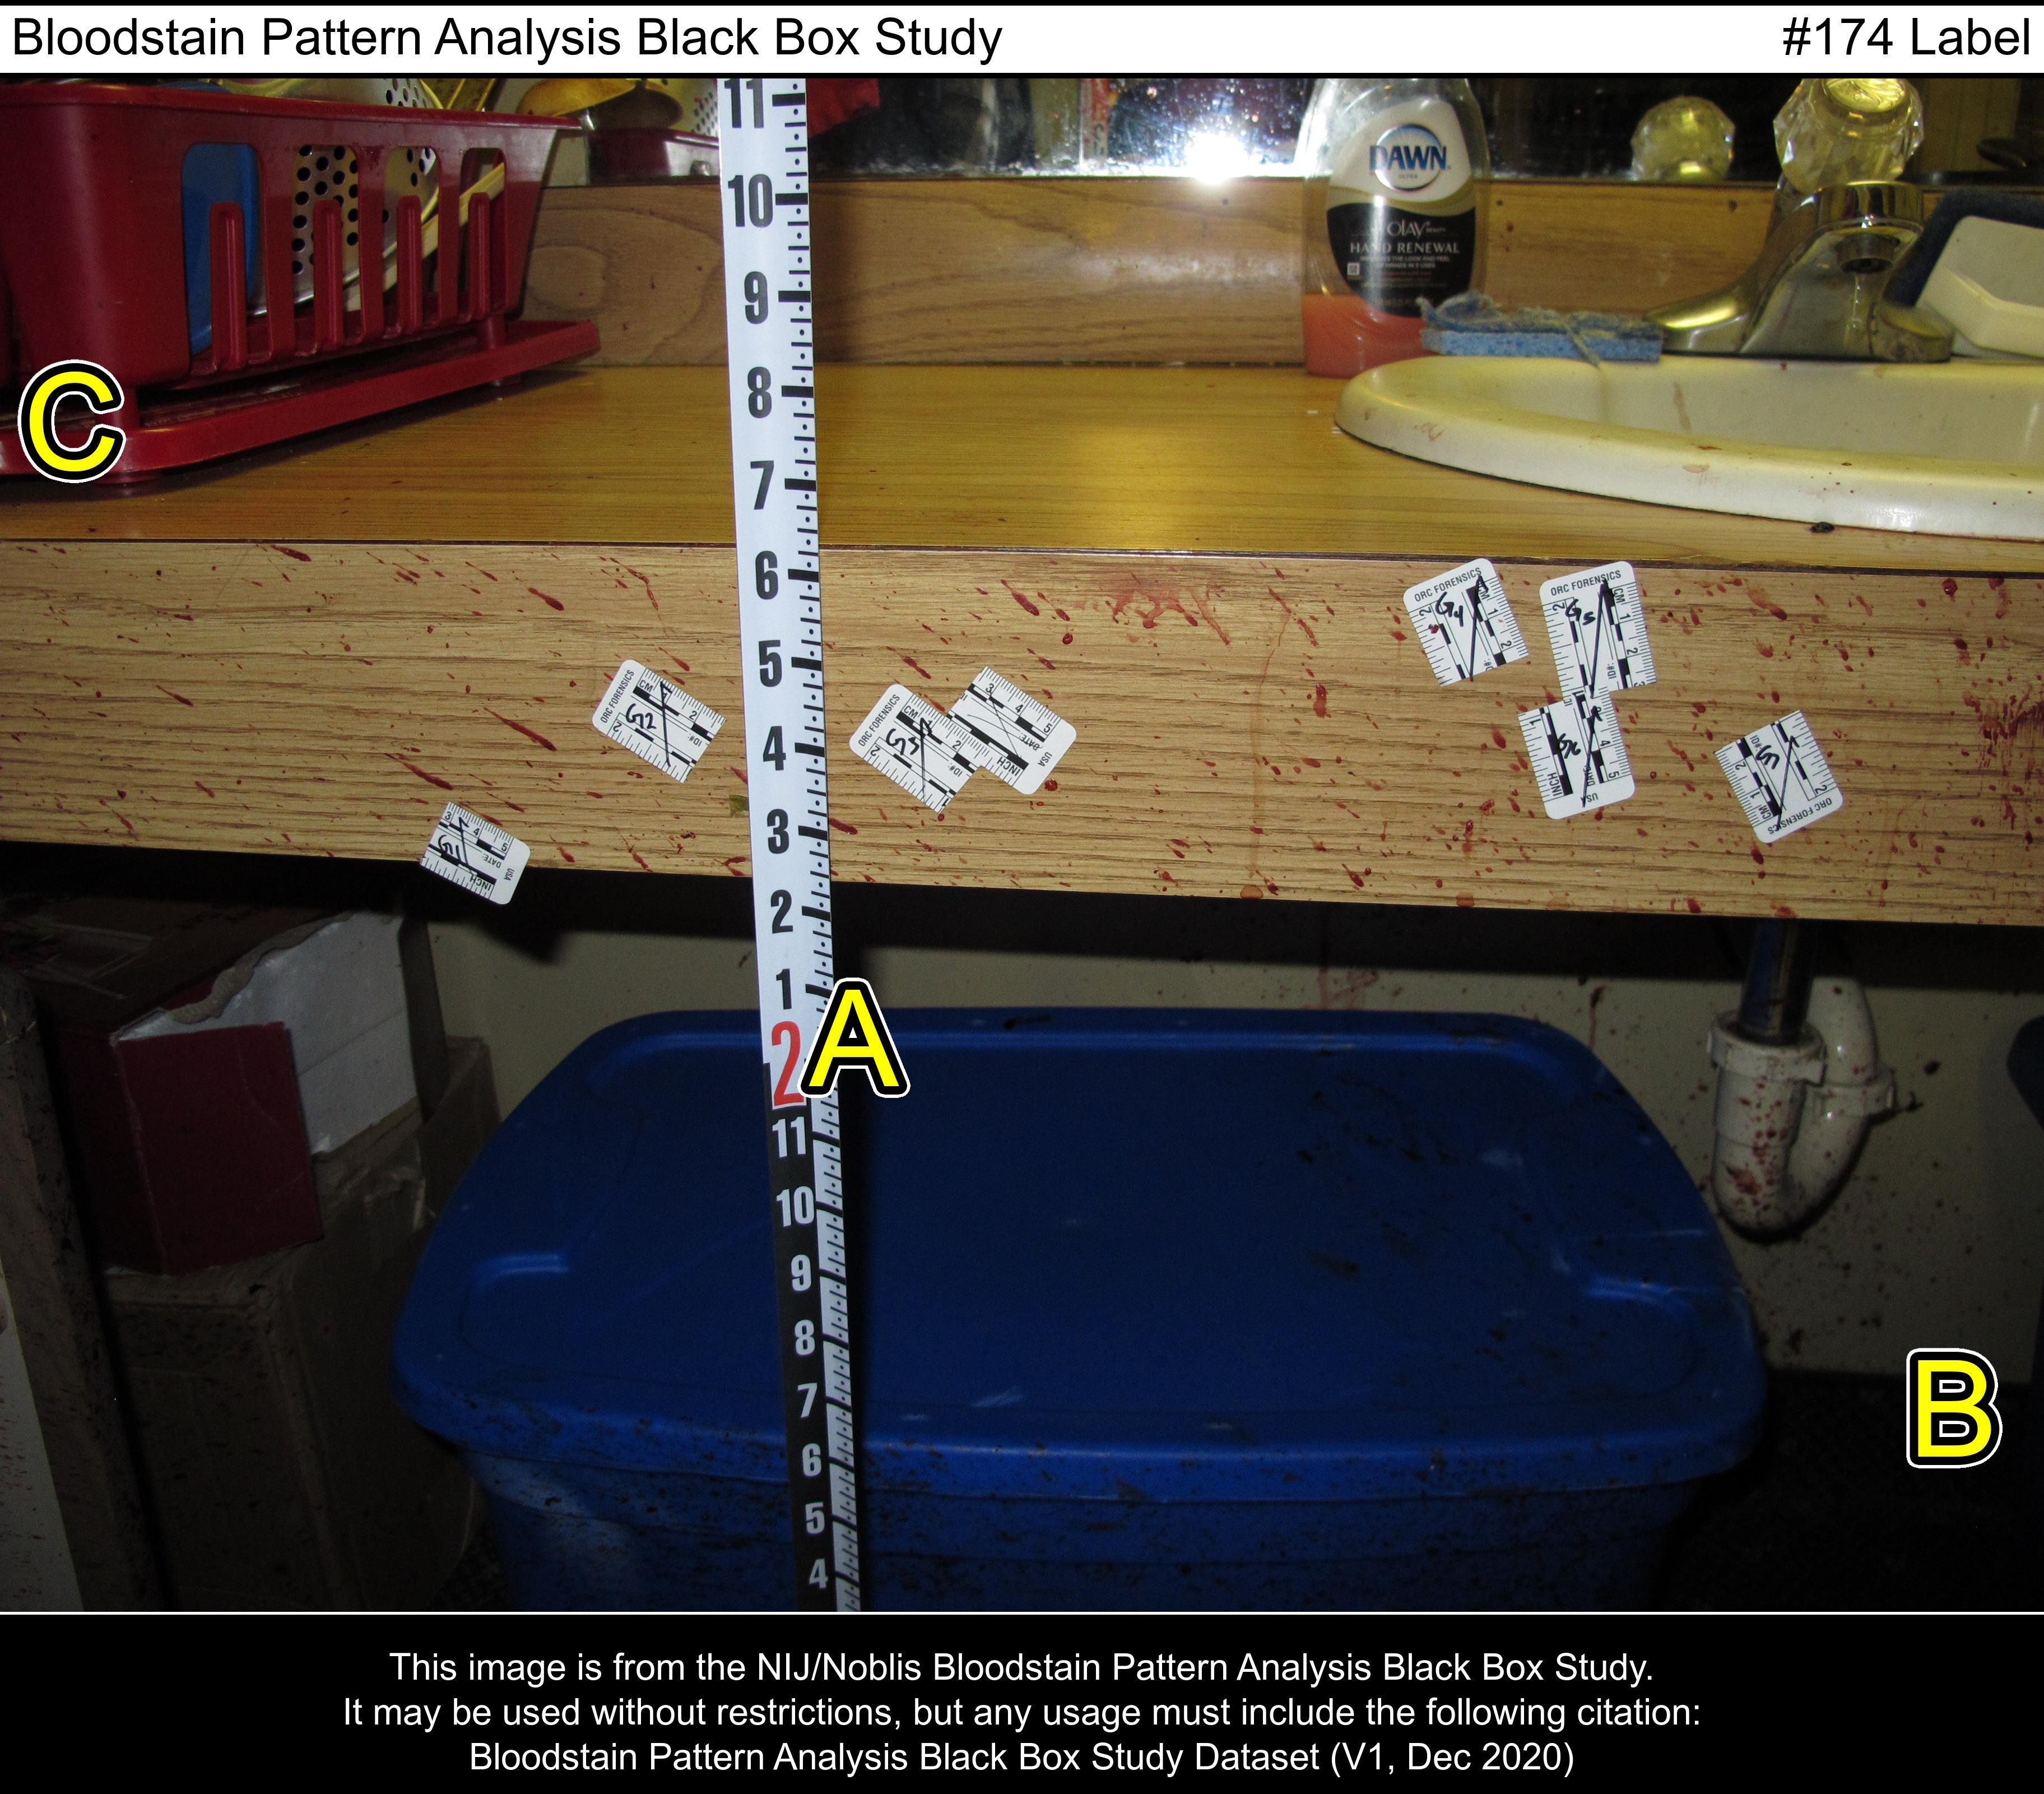Impact: (362, 548, 2023, 925)
